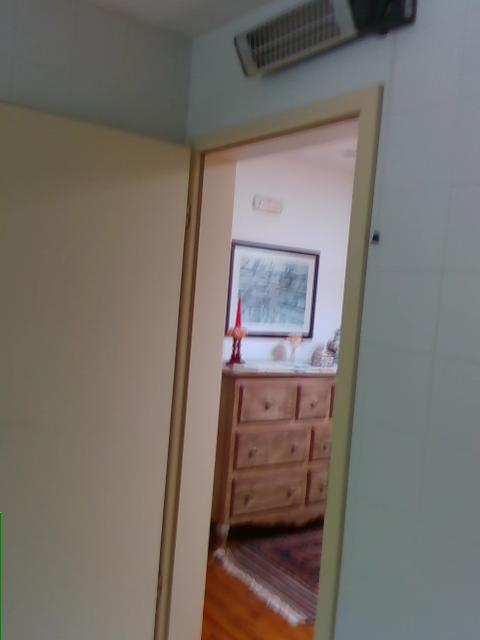open_door: (115, 79, 387, 639)
